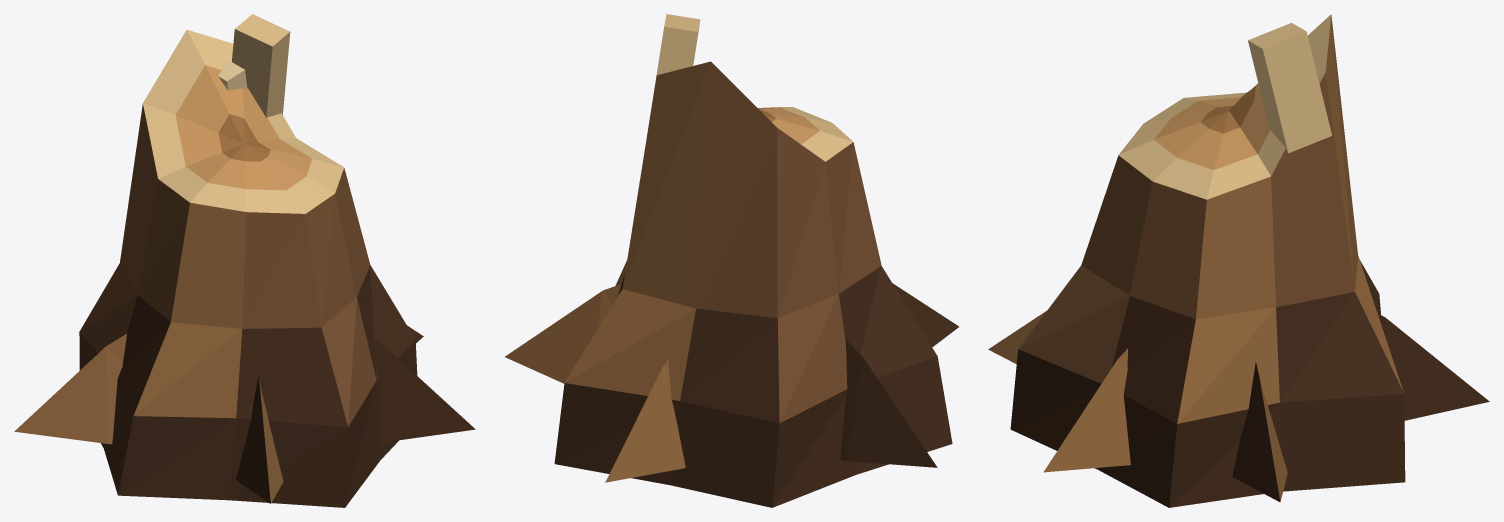
The model's file is stump_jagged.glb.
The picture shows the model from 3 angles, left to right: view 1: azimuth 30°, elevation 25°; view 2: azimuth 150°, elevation 25°; view 3: azimuth 270°, elevation 25°; orthographic projection. The views are drawn at different scales.
Parts seen in each view (by area): view 1: stump_jagged; view 2: stump_jagged; view 3: stump_jagged.
Boxes of the visible parts, box(x1,y1,x2,y2) form: stump_jagged: box(14, 14, 475, 507); stump_jagged: box(505, 14, 959, 507); stump_jagged: box(988, 14, 1489, 507).
Bounding box in the file's own units: 1.33 × 1.2 × 1.3.
